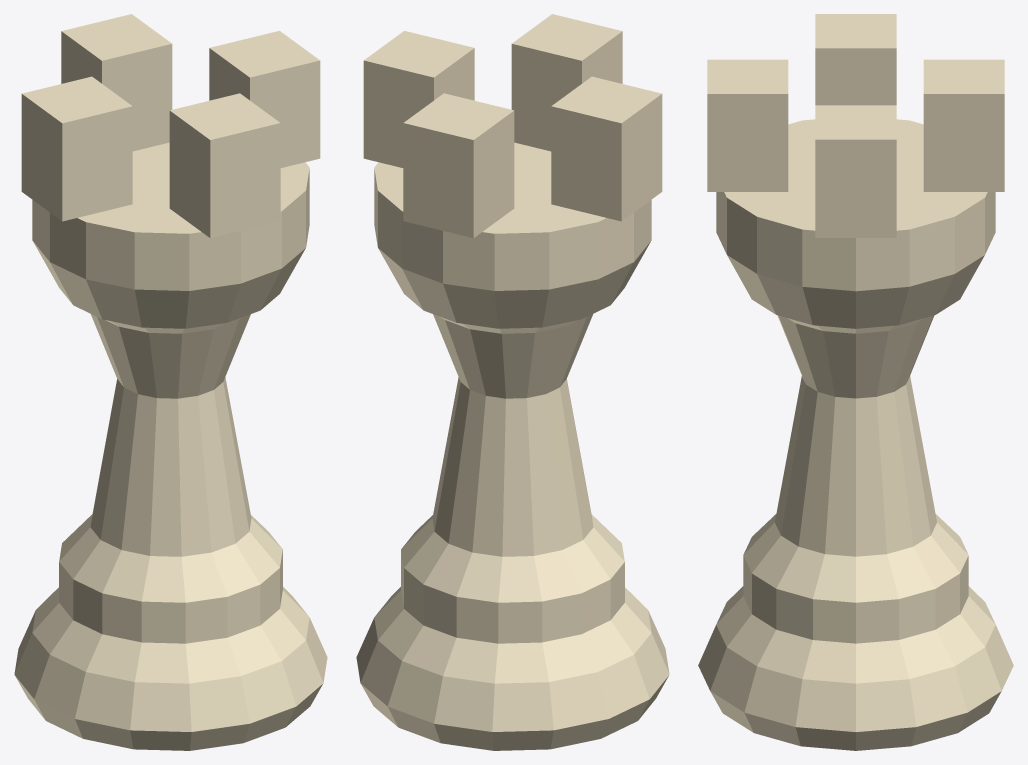
The model's file is SM_IntellectualGrandpaHouse_Chess_White_Rook.fbx.
3 renders of one model, left to right at view 1: azimuth 30°, elevation 25°; view 2: azimuth 150°, elevation 25°; view 3: azimuth 270°, elevation 25°, orthographic.
Parts seen in each view (by area): view 1: SM_IntellectualGrandpaHouse_Chess_White_Rook; view 2: SM_IntellectualGrandpaHouse_Chess_White_Rook; view 3: SM_IntellectualGrandpaHouse_Chess_White_Rook.
Boxes of the visible parts, x1,y1,x2,y2 form: SM_IntellectualGrandpaHouse_Chess_White_Rook: (14, 14, 327, 750); SM_IntellectualGrandpaHouse_Chess_White_Rook: (356, 14, 669, 750); SM_IntellectualGrandpaHouse_Chess_White_Rook: (698, 14, 1013, 750).
Size of the model in its own units: 7 by 7 by 15.
